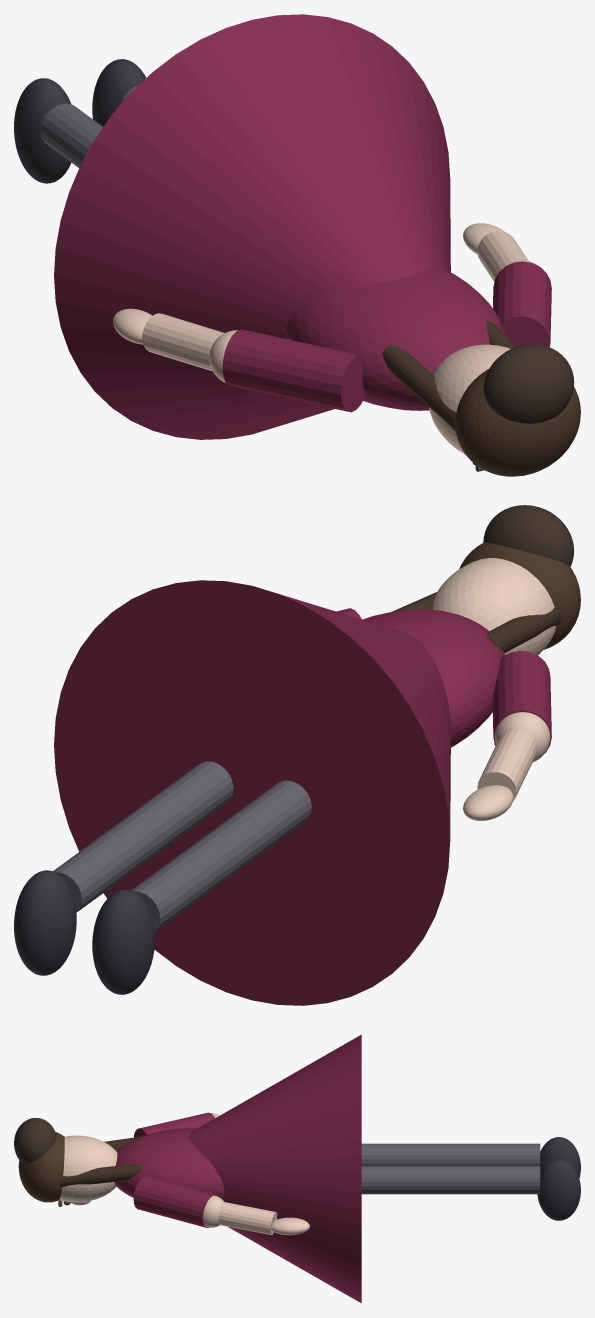
Rendered from cassandra.source.glb.
3 views of the same model, one above another, from view 1: azimuth 30°, elevation 25°; view 2: azimuth 150°, elevation 25°; view 3: azimuth 270°, elevation 25° (orthographic). The views are drawn at different scales.
Parts seen in each view (by area): view 1: DressSkirt_4, Torso_5, UpperArm_7, HairCap_21, HairBun_24, UpperArm_11, Boot_1, Head_15, Forearm_9, LeftRightLeg_0, HairStrand_22, Boot_3 (+4 smaller); view 2: DressSkirt_4, LeftRightLeg_2, LeftRightLeg_0, Torso_5, Head_15, Boot_1, Boot_3, UpperArm_7, HairBun_24, HairCap_21, Forearm_9, HairStrand_22 (+2 smaller); view 3: DressSkirt_4, LeftRightLeg_2, Torso_5, LeftRightLeg_0, Head_15, UpperArm_11, Boot_3, HairCap_21, HairBun_24, Forearm_13, HairStrand_23, Boot_1 (+3 smaller).
Part boxes in pixels (x1,y1,x2,y2): DressSkirt_4: (54,14,450,439); Torso_5: (286,267,505,410); UpperArm_7: (222,329,365,412); HairCap_21: (455,369,580,476); HairBun_24: (483,344,574,423); UpperArm_11: (493,261,551,347); Boot_1: (14,78,71,183); Head_15: (429,344,510,454); Forearm_9: (142,313,224,371); LeftRightLeg_0: (40,103,102,167); HairStrand_22: (382,344,456,430); Boot_3: (92,59,146,126); DressSkirt_4: (54,580,450,1005); LeftRightLeg_2: (53,761,233,912); LeftRightLeg_0: (131,780,311,931); Torso_5: (363,609,504,747); Head_15: (433,558,555,655); Boot_1: (92,889,154,994); Boot_3: (14,870,76,975); UpperArm_7: (492,650,551,753); HairBun_24: (483,505,573,566); HairCap_21: (459,542,580,649); Forearm_9: (477,728,537,801); HairStrand_22: (486,607,561,652); DressSkirt_4: (189,1034,361,1303); LeftRightLeg_2: (361,1166,540,1194); Torso_5: (114,1128,224,1199); LeftRightLeg_0: (361,1143,540,1166); Head_15: (59,1135,117,1202); UpperArm_11: (133,1176,217,1227); Boot_3: (537,1159,580,1220); HairCap_21: (18,1132,64,1202); HairBun_24: (14,1118,56,1163); Forearm_13: (218,1202,277,1235); HairStrand_23: (59,1164,141,1187); Boot_1: (540,1137,580,1178).
Size of the model in its own units: 0.86 by 0.86 by 1.81.
